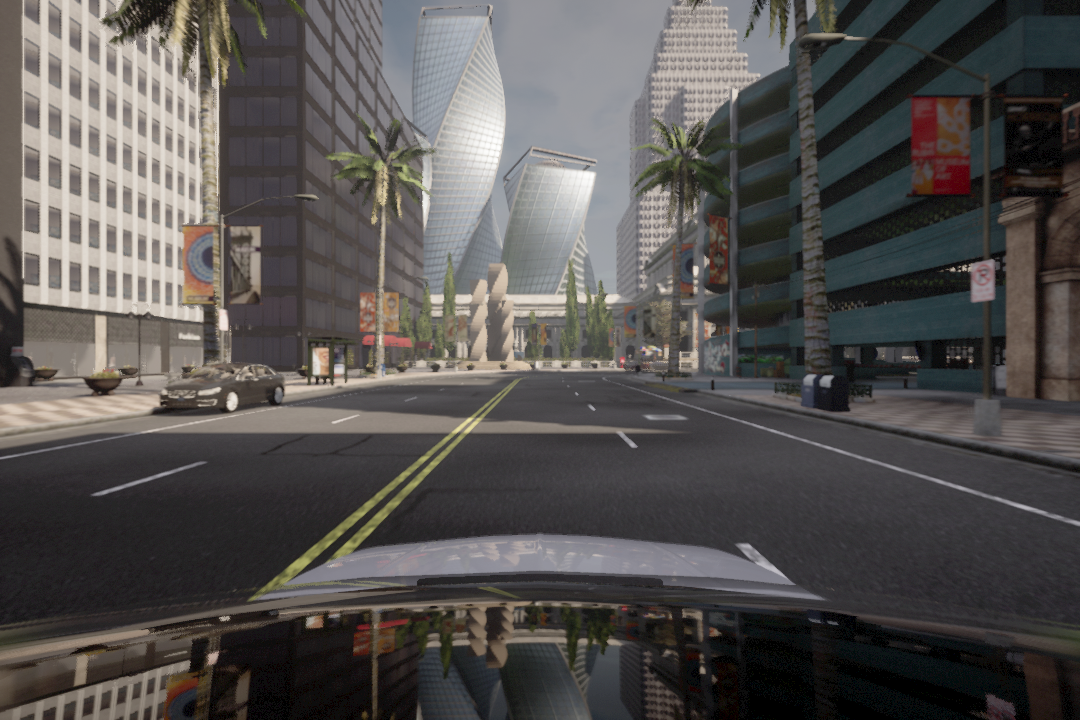TrafficSign_nstop: (970, 262, 997, 301)
